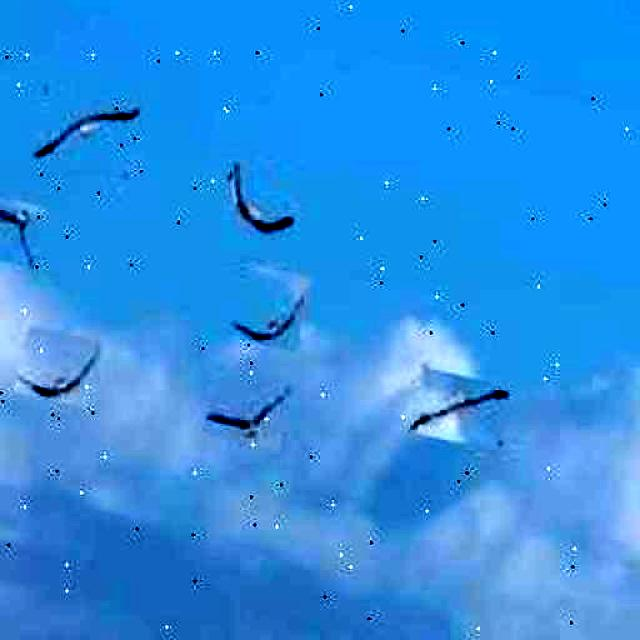airplane: (31, 85, 139, 179), (408, 366, 510, 450), (12, 325, 102, 409), (229, 261, 312, 351), (202, 368, 292, 450), (220, 158, 304, 241), (0, 192, 46, 269)
